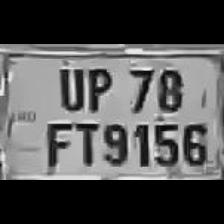1: (128, 119, 150, 166)
5: (150, 118, 180, 168)
6: (178, 118, 210, 168)
7: (120, 64, 154, 114)
8: (151, 64, 185, 114)
9: (97, 119, 128, 167)
F: (39, 117, 73, 173)
P: (83, 62, 114, 112)
T: (68, 118, 98, 168)
U: (52, 62, 86, 110)
